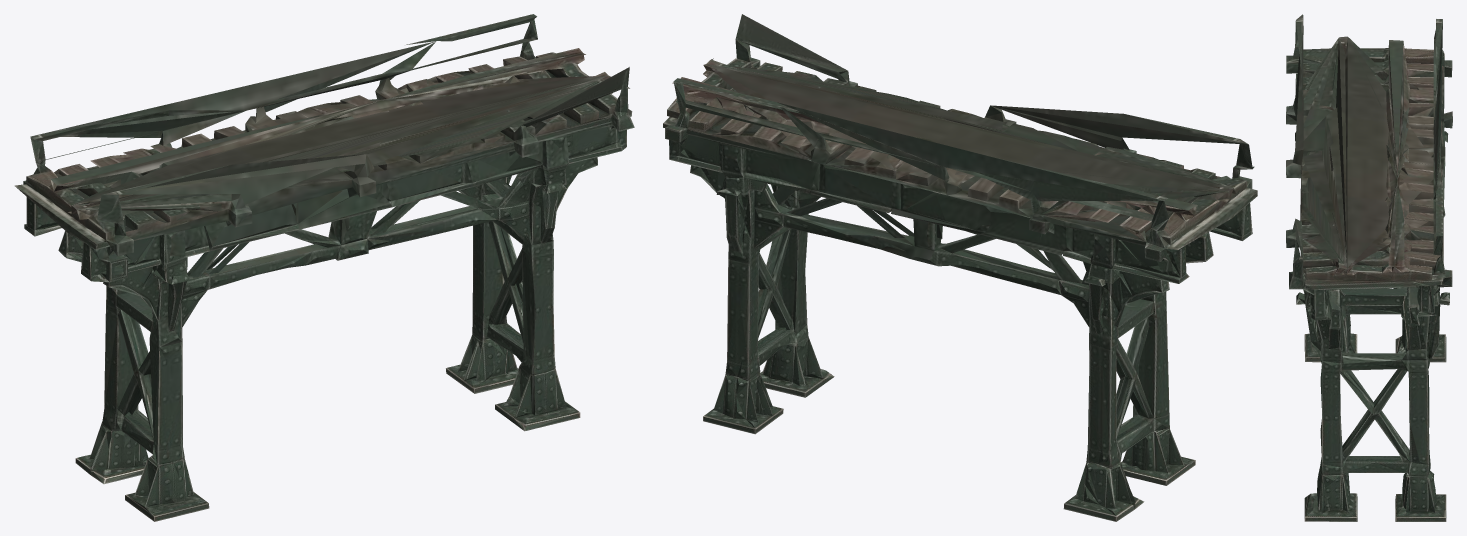
The model's file is el_track.glb.
The picture shows the model from 3 angles, left to right: view 1: azimuth 30°, elevation 25°; view 2: azimuth 150°, elevation 25°; view 3: azimuth 270°, elevation 25°; orthographic projection. The views are drawn at different scales.
Bounding box in the file's own units: 1.9 × 1.15 × 0.5724.
1 material, 1 textured.
